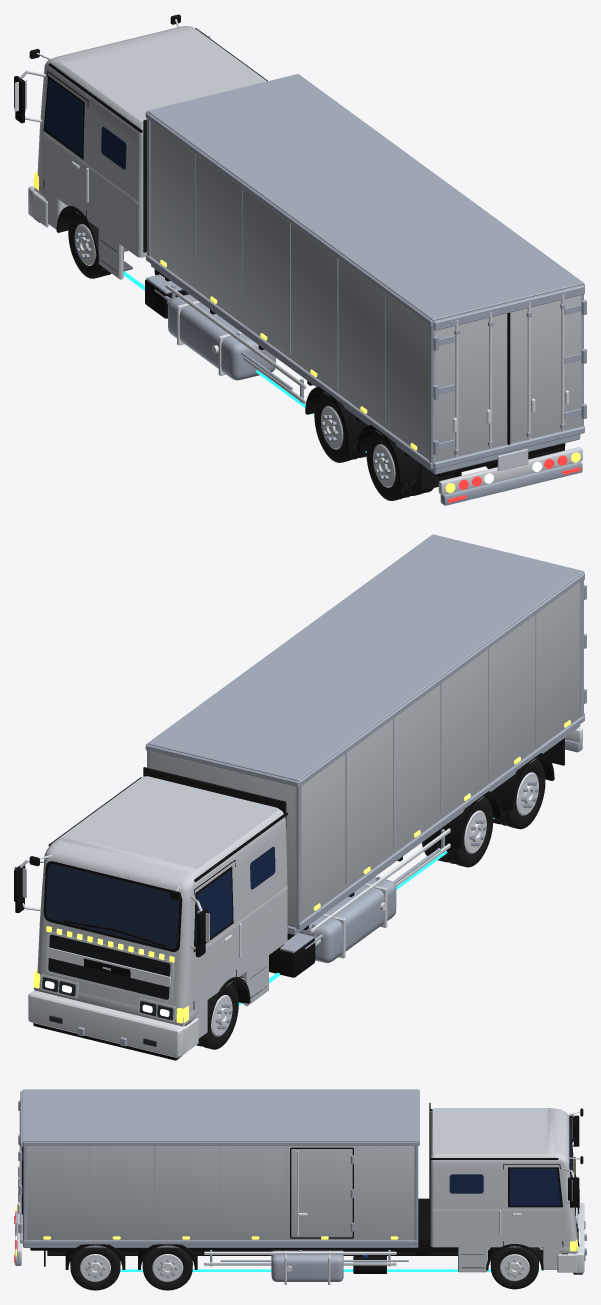
File: dekotora_truck_alubox.glb
3 renders of one model, top to bottom at view 1: azimuth 30°, elevation 25°; view 2: azimuth 150°, elevation 25°; view 3: azimuth 270°, elevation 25°, orthographic. The views are drawn at different scales.
Parts seen in each view (by area): view 1: truck_steel, truck_box_alu, truck_paint_white_panel, truck_chrome, truck_plastic_black, truck_glass, wheel_r_L_1.5_1.06, wheel_r_L_3.0_1.06, wheel_f_L, truck_plastic_trim; view 2: truck_steel, truck_box_alu, truck_paint_white_panel, truck_chrome, truck_plastic_black, truck_glass_wind, truck_vent_slots, truck_glass, truck_plastic_trim, wheel_r_L_3.0_1.06, wheel_r_L_1.5_1.06, wheel_f_L (+2 smaller); view 3: truck_box_alu, truck_steel, truck_paint_white_panel, truck_plastic_black, truck_chrome, truck_glass, wheel_r_R_1.5_1.06, wheel_r_R_3.0_1.06, wheel_f_R, truck_plastic_trim, truck_lamp_cyan, truck_lamp_amber.
Part boxes in pixels (x1,y1,x2,y2): truck_steel: [145, 74, 586, 505]; truck_box_alu: [150, 121, 581, 461]; truck_paint_white_panel: [34, 26, 266, 279]; truck_chrome: [14, 19, 582, 494]; truck_plastic_black: [14, 14, 565, 482]; truck_glass: [45, 79, 126, 169]; wheel_r_L_1.5_1.06: [366, 431, 417, 500]; wheel_r_L_3.0_1.06: [314, 393, 362, 462]; wheel_f_L: [68, 212, 111, 278]; truck_plastic_trim: [56, 119, 146, 262]; truck_steel: [77, 534, 586, 1046]; truck_box_alu: [150, 582, 580, 927]; truck_paint_white_panel: [34, 776, 287, 1038]; truck_chrome: [14, 728, 582, 1057]; truck_plastic_black: [14, 750, 554, 1060]; truck_glass_wind: [46, 864, 179, 948]; truck_vent_slots: [48, 934, 170, 999]; truck_glass: [195, 846, 275, 944]; truck_plastic_trim: [143, 767, 286, 1032]; wheel_r_L_3.0_1.06: [444, 797, 493, 867]; wheel_r_L_1.5_1.06: [497, 759, 545, 829]; wheel_f_L: [196, 983, 238, 1049]; truck_box_alu: [27, 1146, 414, 1240]; truck_steel: [15, 1089, 586, 1281]; truck_paint_white_panel: [430, 1108, 577, 1272]; truck_plastic_black: [21, 1108, 583, 1274]; truck_chrome: [17, 1100, 584, 1284]; truck_glass: [449, 1169, 560, 1205]; wheel_r_R_1.5_1.06: [70, 1247, 120, 1290]; wheel_r_R_3.0_1.06: [142, 1247, 192, 1290]; wheel_f_R: [490, 1247, 538, 1289]; truck_plastic_trim: [429, 1103, 543, 1270]; truck_lamp_cyan: [120, 1269, 538, 1271]; truck_lamp_amber: [15, 1162, 578, 1256].
Bounding box in the file's own units: 3.24 × 3.47 × 11.89.
Materials: 20 (6 with a texture image).
